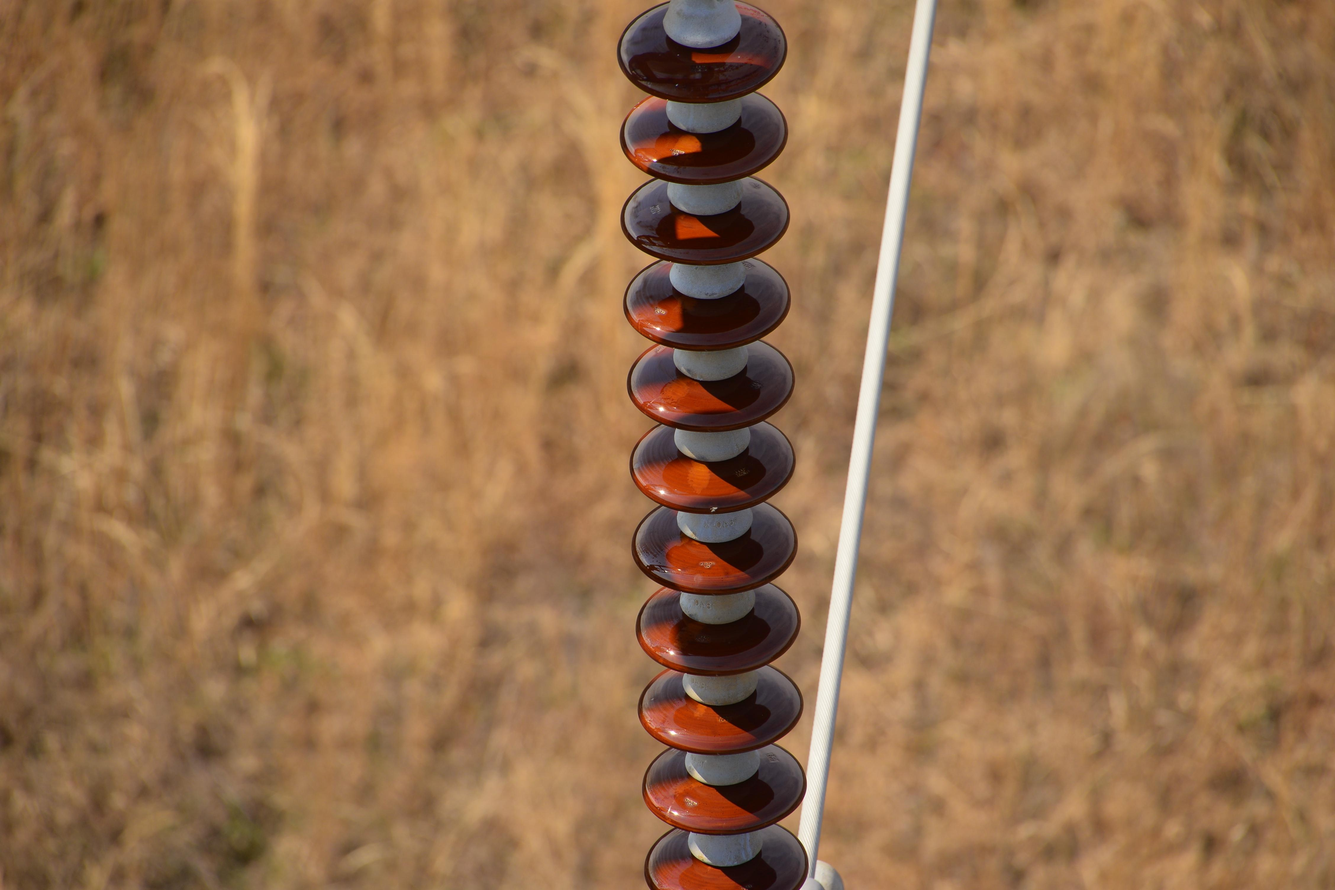insulator: (617, 0, 815, 890)
